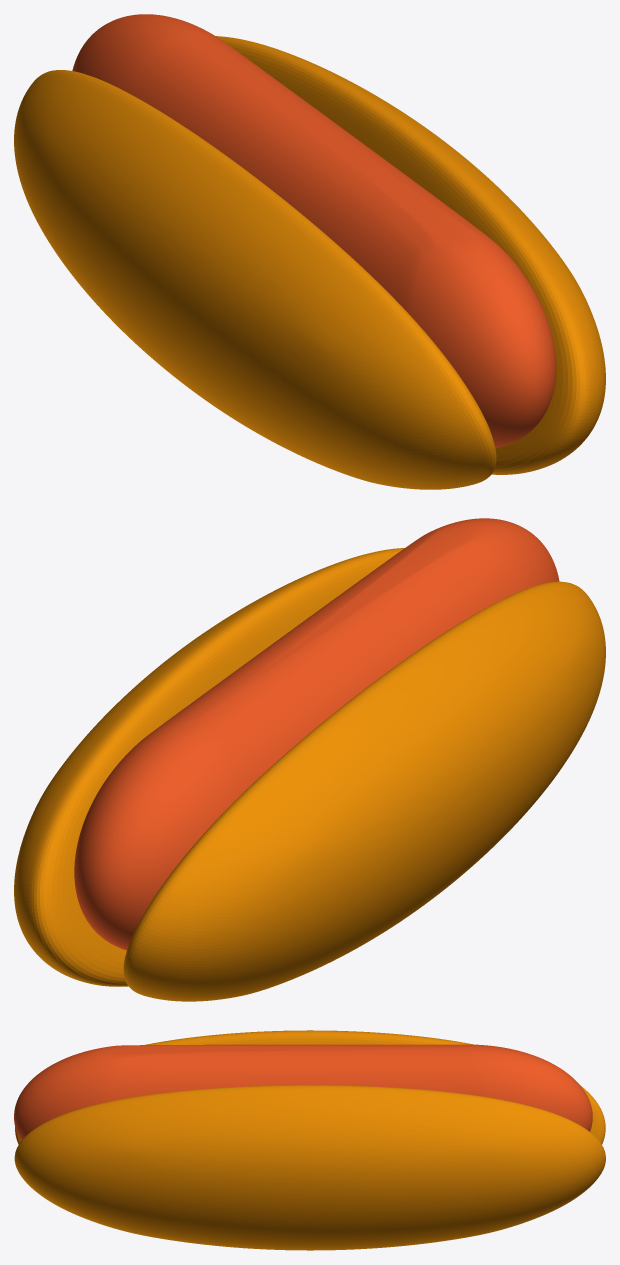
File: HotDog.fbx
3 renders of one model, top to bottom at view 1: azimuth 30°, elevation 25°; view 2: azimuth 150°, elevation 25°; view 3: azimuth 270°, elevation 25°, orthographic. The views are drawn at different scales.
Parts seen in each view (by area): view 1: BreadUp, Sphere, BreadDown; view 2: BreadUp, Sphere, BreadDown; view 3: BreadDown, Sphere, BreadUp.
Boxes of the visible parts, x1=… form: BreadUp: x1=14, y1=70, x2=496, y2=489; Sphere: x1=72, y1=14, x2=556, y2=448; BreadDown: x1=216, y1=36, x2=605, y2=474; BreadUp: x1=123, y1=581, x2=605, y2=1001; Sphere: x1=74, y1=518, x2=559, y2=950; BreadDown: x1=14, y1=548, x2=404, y2=986; BreadDown: x1=14, y1=1085, x2=605, y2=1250; Sphere: x1=14, y1=1044, x2=592, y2=1140; BreadUp: x1=15, y1=1030, x2=605, y2=1144.
Bounding box in the file's own units: 161 × 132 × 389.
